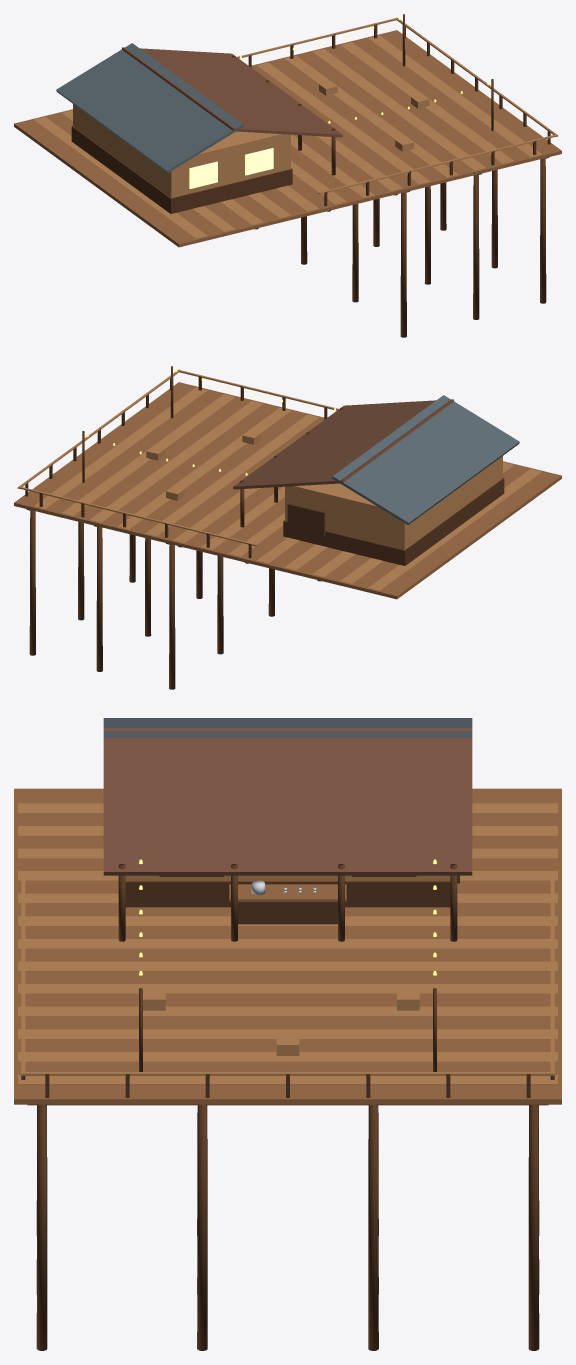
File: cafe_mo_suong.glb
3 renders of one model, top to bottom at view 1: azimuth 30°, elevation 25°; view 2: azimuth 150°, elevation 25°; view 3: azimuth 270°, elevation 25°, orthographic. The views are drawn at different scales.
Visible parts, largest first — view 1: CafeMoSuong; view 2: CafeMoSuong; view 3: CafeMoSuong.
Boxes of the visible parts, x1,y1,x2,y2 form: CafeMoSuong: (14,14,561,337); CafeMoSuong: (14,366,561,689); CafeMoSuong: (14,718,561,1350).
Bounding box in the file's own units: 27.5 × 16 × 20.5.
